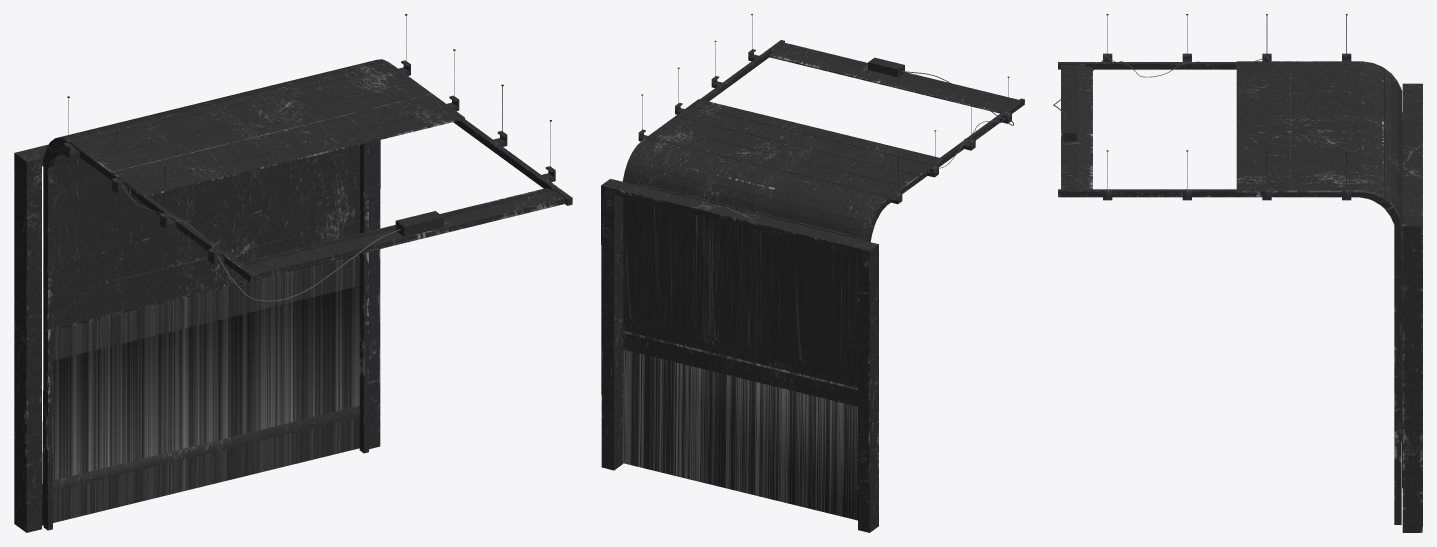
Rendered from MAGOS12.fbx.
The picture shows the model from 3 angles, left to right: view 1: azimuth 30°, elevation 25°; view 2: azimuth 150°, elevation 25°; view 3: azimuth 270°, elevation 25°; orthographic projection. The views are drawn at different scales.
Visible parts, largest first — view 1: SmallGateVar2; view 2: SmallGateVar2; view 3: SmallGateVar2.
Part boxes in pixels (box(x1,y1,x2,y2)): SmallGateVar2: box(14, 14, 572, 532); SmallGateVar2: box(601, 14, 1024, 532); SmallGateVar2: box(1053, 14, 1422, 532).
Bounding box in the file's own units: 399 × 494 × 437.
